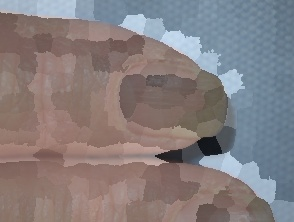Nail_psoriasis: (137, 21, 239, 152), (177, 165, 282, 222)
